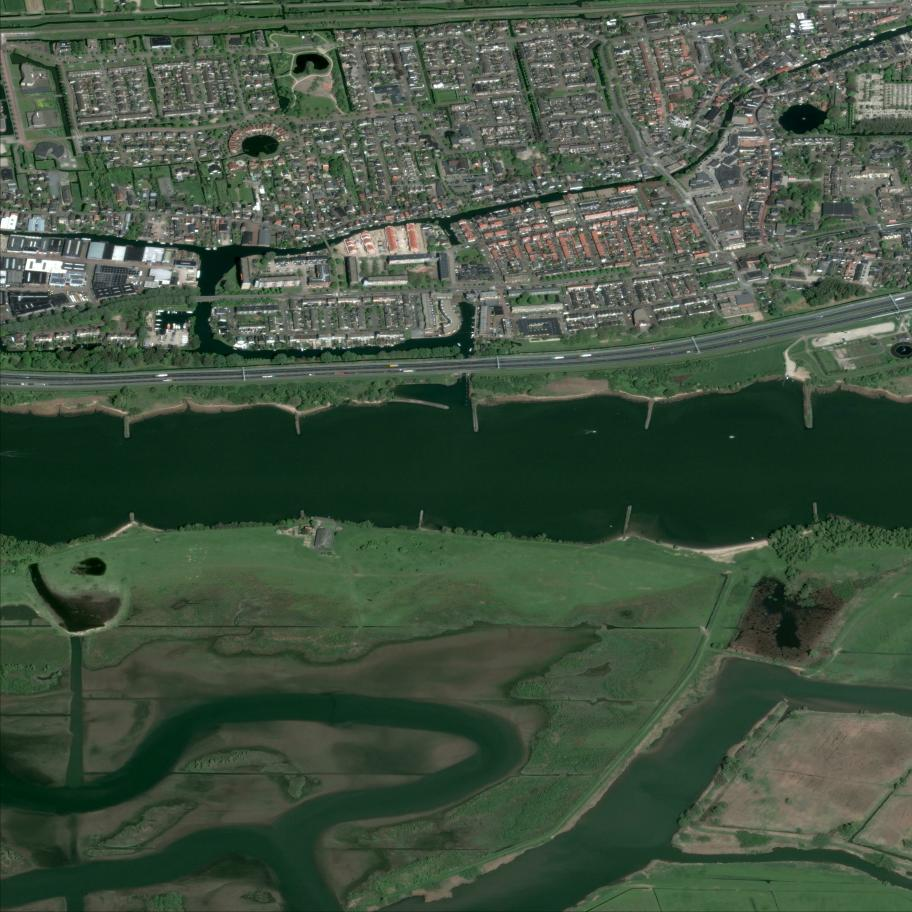large-vehicle: (79, 293, 86, 302), (69, 295, 75, 303), (71, 295, 77, 303), (77, 294, 83, 302), (157, 374, 168, 377), (581, 354, 592, 357), (738, 204, 742, 212), (334, 372, 344, 375), (554, 356, 564, 359), (404, 370, 413, 373), (163, 379, 171, 382), (592, 314, 595, 320)
ship: (196, 269, 201, 279), (341, 232, 350, 237), (470, 333, 475, 339), (156, 310, 165, 313), (155, 319, 163, 322), (167, 324, 171, 330), (159, 242, 166, 245), (457, 343, 461, 348), (81, 238, 91, 240), (562, 190, 568, 193), (575, 188, 581, 191), (183, 324, 186, 329), (178, 324, 181, 329), (147, 241, 154, 243), (154, 328, 161, 330), (181, 335, 188, 337), (181, 339, 188, 341), (186, 311, 193, 313), (173, 323, 175, 329), (155, 324, 161, 326), (469, 348, 472, 352), (151, 343, 154, 347), (182, 337, 188, 339), (181, 341, 187, 343), (181, 343, 187, 345), (205, 248, 211, 250), (75, 238, 80, 240), (218, 239, 220, 244), (446, 216, 451, 218), (156, 313, 161, 315), (176, 325, 178, 329), (221, 232, 223, 236), (169, 243, 173, 245), (168, 311, 170, 314), (175, 311, 177, 314), (231, 239, 232, 243), (172, 311, 173, 314), (174, 311, 175, 313)
small-vehicle: (737, 277, 740, 282), (198, 132, 203, 135), (522, 317, 527, 319), (465, 246, 470, 248), (668, 231, 671, 234), (115, 115, 117, 119), (368, 87, 372, 89), (507, 287, 511, 289), (576, 221, 578, 224), (370, 91, 373, 93), (624, 240, 626, 243), (620, 229, 622, 232), (124, 59, 126, 62), (726, 213, 728, 216), (727, 213, 730, 215), (729, 212, 731, 215), (399, 369, 403, 370), (79, 57, 81, 58)
